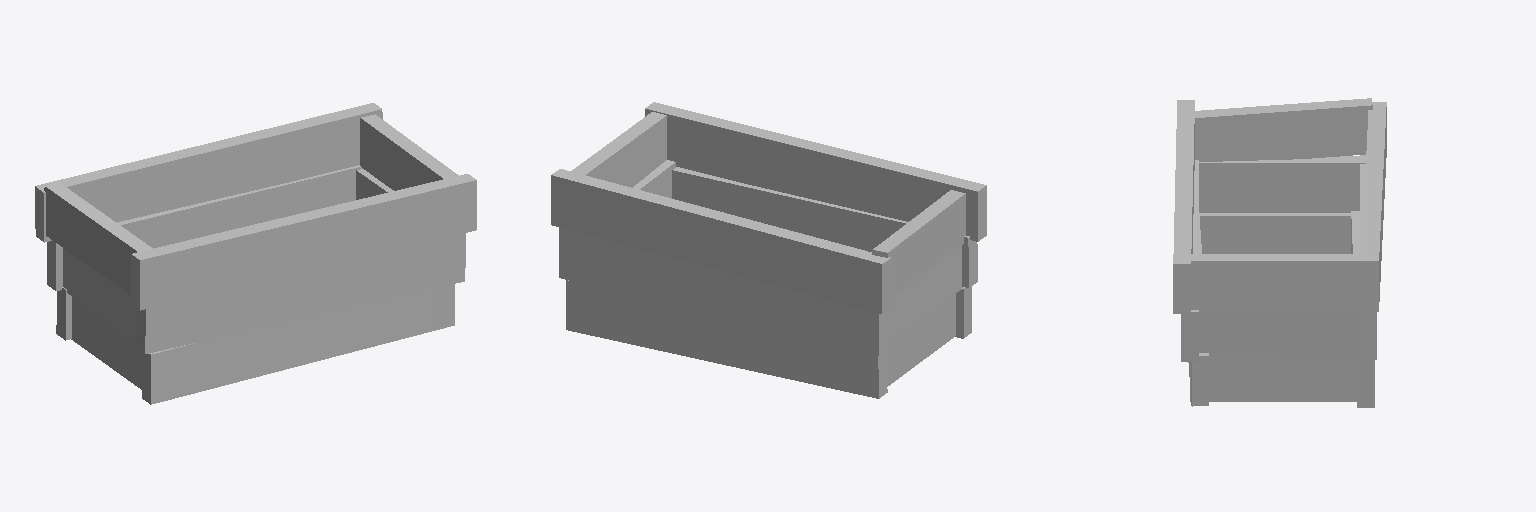
File: PixelChest_Chest.obj
3 views of the same model, side by side, from view 1: azimuth 30°, elevation 25°; view 2: azimuth 150°, elevation 25°; view 3: azimuth 270°, elevation 25° (orthographic).
Parts seen in each view (by area): view 1: Chest; view 2: Chest; view 3: Chest.
Part boxes in pixels (x1,y1,x2,y2): Chest: (35,103,476,404); Chest: (551,102,986,398); Chest: (1173,98,1386,407).
Bounding box in the file's own units: 1.3 × 0.5705 × 0.7164.